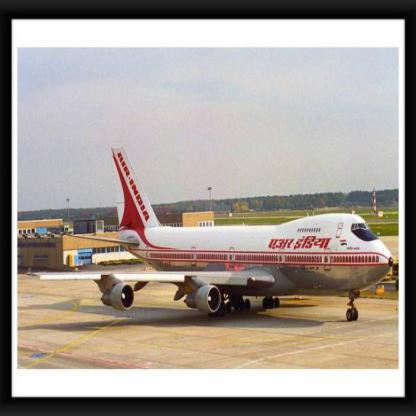CIV_Plane: (66, 142, 396, 322)
